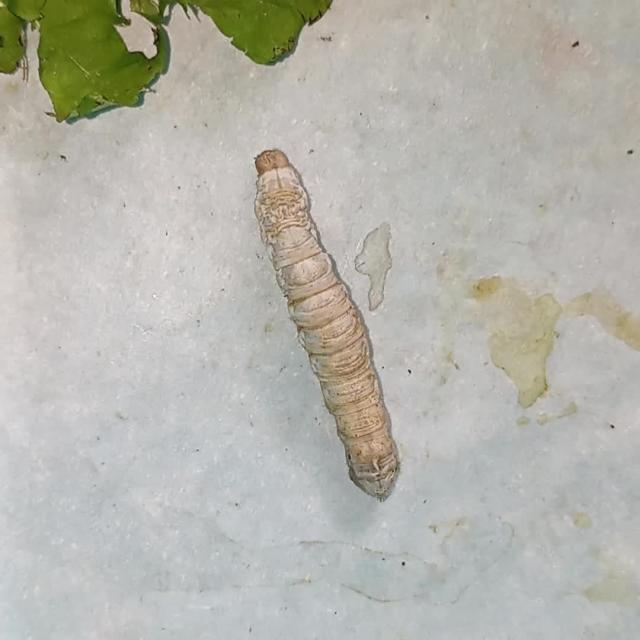Grasserie: (164, 79, 440, 503)
